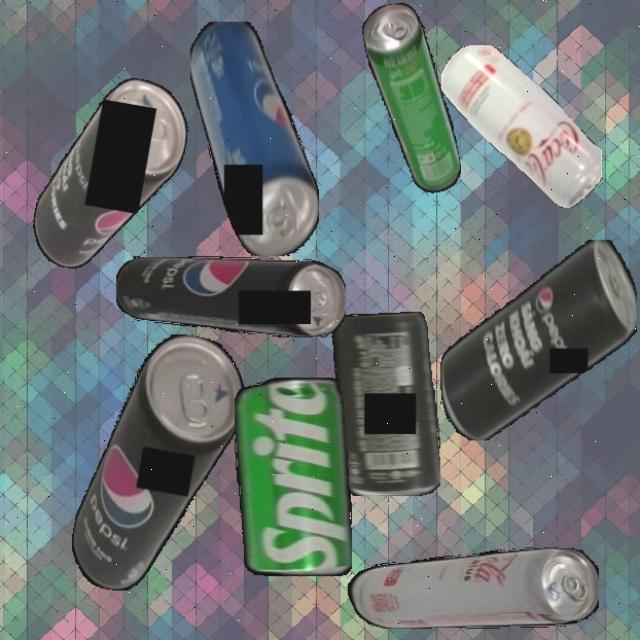debris: (65, 322, 251, 606), (439, 239, 637, 440), (27, 66, 195, 284), (189, 21, 319, 256), (441, 44, 602, 208), (233, 378, 352, 576), (359, 0, 464, 200), (344, 547, 599, 629), (330, 312, 440, 496), (115, 256, 346, 338)
